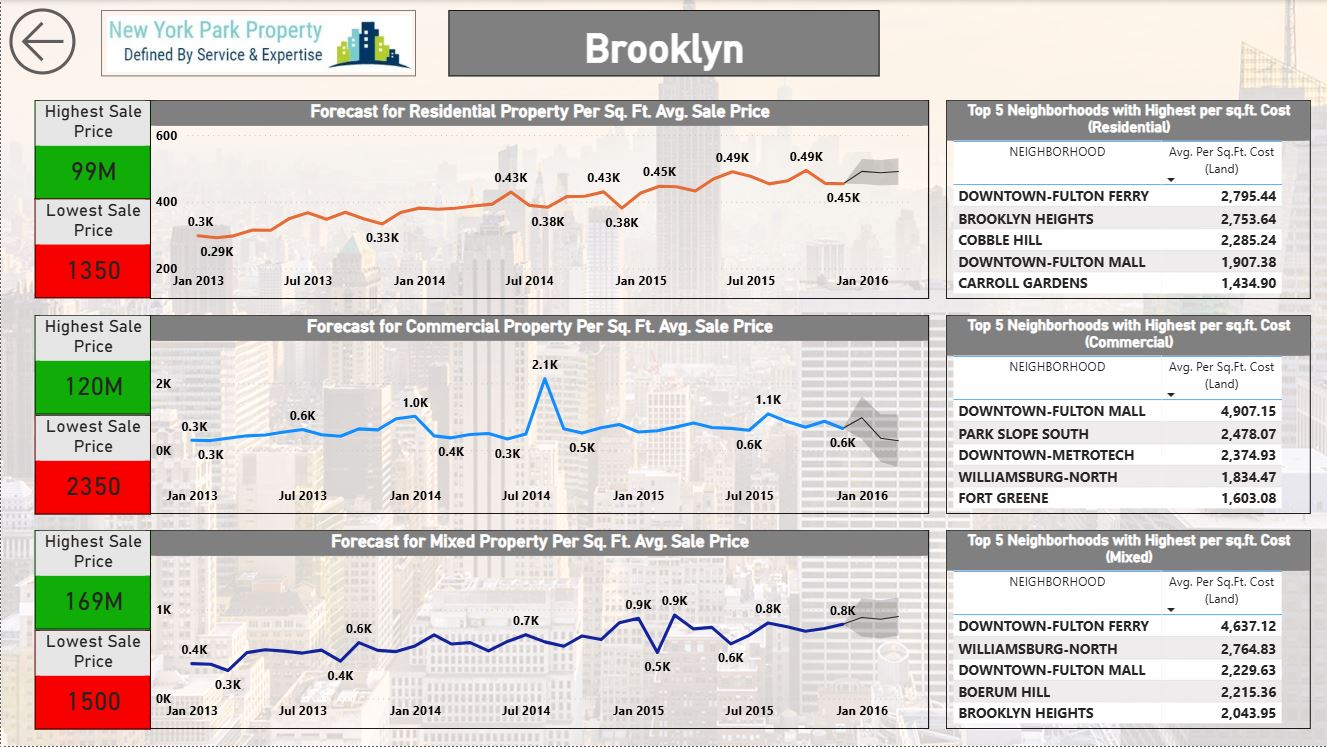

This screenshot's page, from the dashboard's own definition file:
{"tool":"powerbi","page":{"name":"Sales Price Forecast","canvas":[1280,720],"ordinal":1},"visuals":[{"type":"lineChart","title":"Forecast for Commercial Property  Per Sq. Ft. Avg. Sale Price","fields":{"Category":["NYC Property_Prices(2013-2015).SALE DATE.Variation.Date Hierarchy.Year","NYC Property_Prices(2013-2015).SALE DATE.Variation.Date Hierarchy.Quarter","NYC Property_Prices(2013-2015).SALE DATE.Variation.Date Hierarchy.Month","NYC Property_Prices(2013-2015).SALE DATE.Variation.Date Hierarchy.Day"],"Y":["Avg(NYC Property_Prices(2013-2015).Per Sq.Ft. Cost (Land))"]},"box":[144,304,752,192],"z":0},{"type":"actionButton","box":[0,0,128,80],"z":1000},{"type":"lineChart","title":"Forecast for Mixed Property  Per Sq. Ft. Avg. Sale Price","fields":{"Category":["NYC Property_Prices(2013-2015).SALE DATE.Variation.Date Hierarchy.Year","NYC Property_Prices(2013-2015).SALE DATE.Variation.Date Hierarchy.Quarter","NYC Property_Prices(2013-2015).SALE DATE.Variation.Date Hierarchy.Month","NYC Property_Prices(2013-2015).SALE DATE.Variation.Date Hierarchy.Day"],"Y":["Avg(NYC Property_Prices(2013-2015).Per Sq.Ft. Cost (Land))"]},"box":[144,512,752,192],"z":2000},{"type":"lineChart","title":"Forecast for Residential Property Per Sq. Ft. Avg. Sale Price","fields":{"Category":["NYC Property_Prices(2013-2015).SALE DATE.Variation.Date Hierarchy.Year","NYC Property_Prices(2013-2015).SALE DATE.Variation.Date Hierarchy.Quarter","NYC Property_Prices(2013-2015).SALE DATE.Variation.Date Hierarchy.Month","NYC Property_Prices(2013-2015).SALE DATE.Variation.Date Hierarchy.Day"],"Y":["Avg(NYC Property_Prices(2013-2015).Per Sq.Ft. Cost (Land))"]},"box":[144,96,752,192],"z":3000},{"type":"tableEx","title":"Top 5 Neighborhoods with Highest per sq.ft. Cost (Residential)","fields":{"Values":["NYC Property_Prices(2013-2015).NEIGHBORHOOD","Avg(NYC Property_Prices(2013-2015).Per Sq.Ft. Cost (Land))"]},"box":[912,96,352,192],"z":4000},{"type":"card","fields":{"Values":["Min(NYC Property_Prices(2013-2015).Borough Name)"]},"box":[432,10,416,64],"z":5000},{"type":"tableEx","title":"Top 5 Neighborhoods with Highest per sq.ft. Cost (Commercial)","fields":{"Values":["NYC Property_Prices(2013-2015).NEIGHBORHOOD","Avg(NYC Property_Prices(2013-2015).Per Sq.Ft. Cost (Land))"]},"box":[912,304,352,192],"z":6000},{"type":"tableEx","title":"Top 5 Neighborhoods with Highest per sq.ft. Cost (Mixed)","fields":{"Values":["NYC Property_Prices(2013-2015).NEIGHBORHOOD","Avg(NYC Property_Prices(2013-2015).Per Sq.Ft. Cost (Land))"]},"box":[912,512,352,192],"z":7000},{"type":"card","title":"Highest Sale Price","fields":{"Values":["Max(NYC Property_Prices(2013-2015).SALE PRICE)"]},"box":[32,96,112,96],"z":8000},{"type":"card","title":"Lowest Sale Price","fields":{"Values":["Min(NYC Property_Prices(2013-2015).SALE PRICE)"]},"box":[32,192,112,96],"z":9000},{"type":"card","title":"Highest Sale Price","fields":{"Values":["Max(NYC Property_Prices(2013-2015).SALE PRICE)"]},"box":[32,304,112,96],"z":10000},{"type":"card","title":"Lowest Sale Price","fields":{"Values":["Min(NYC Property_Prices(2013-2015).SALE PRICE)"]},"box":[32,400,112,96],"z":11000},{"type":"card","title":"Highest Sale Price","fields":{"Values":["Max(NYC Property_Prices(2013-2015).SALE PRICE)"]},"box":[32,512,112,96],"z":12000},{"type":"card","title":"Lowest Sale Price","fields":{"Values":["Min(NYC Property_Prices(2013-2015).SALE PRICE)"]},"box":[32,608,112,96],"z":13000},{"type":"image","box":[96,10,304,64],"z":14000}]}

Visuals, with their boxes in screenshot pixels (x1, y1, x2, y2), scaled from the page's 1280x720 canvas onto the 1327x747 screenshot:
"Forecast for Commercial Property  Per Sq. Ft. Avg. Sale Price" lineChart: x1=149, y1=315, x2=929, y2=515
actionButton: x1=0, y1=0, x2=133, y2=83
"Forecast for Mixed Property  Per Sq. Ft. Avg. Sale Price" lineChart: x1=149, y1=531, x2=929, y2=730
"Forecast for Residential Property Per Sq. Ft. Avg. Sale Price" lineChart: x1=149, y1=100, x2=929, y2=299
"Top 5 Neighborhoods with Highest per sq.ft. Cost (Residential)" tableEx: x1=945, y1=100, x2=1310, y2=299
card - Min(NYC Property_Prices(2013-2015).Borough Name): x1=448, y1=10, x2=879, y2=77
"Top 5 Neighborhoods with Highest per sq.ft. Cost (Commercial)" tableEx: x1=945, y1=315, x2=1310, y2=515
"Top 5 Neighborhoods with Highest per sq.ft. Cost (Mixed)" tableEx: x1=945, y1=531, x2=1310, y2=730
"Highest Sale Price" card: x1=33, y1=100, x2=149, y2=199
"Lowest Sale Price" card: x1=33, y1=199, x2=149, y2=299
"Highest Sale Price" card: x1=33, y1=315, x2=149, y2=415
"Lowest Sale Price" card: x1=33, y1=415, x2=149, y2=515
"Highest Sale Price" card: x1=33, y1=531, x2=149, y2=631
"Lowest Sale Price" card: x1=33, y1=631, x2=149, y2=730
image: x1=100, y1=10, x2=415, y2=77
